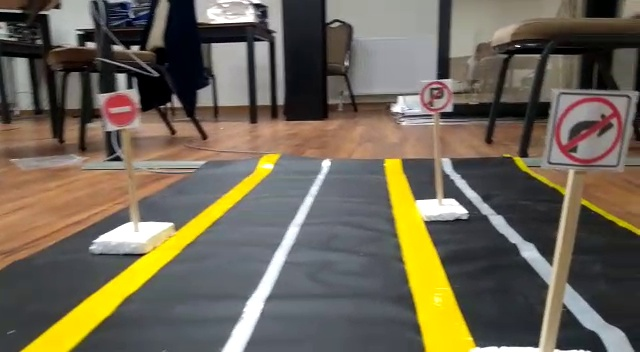girisi_olmayan_yol: (102, 88, 139, 126)
park_yapilmaz: (422, 81, 453, 113)
saga_donulmez: (554, 89, 621, 167)
